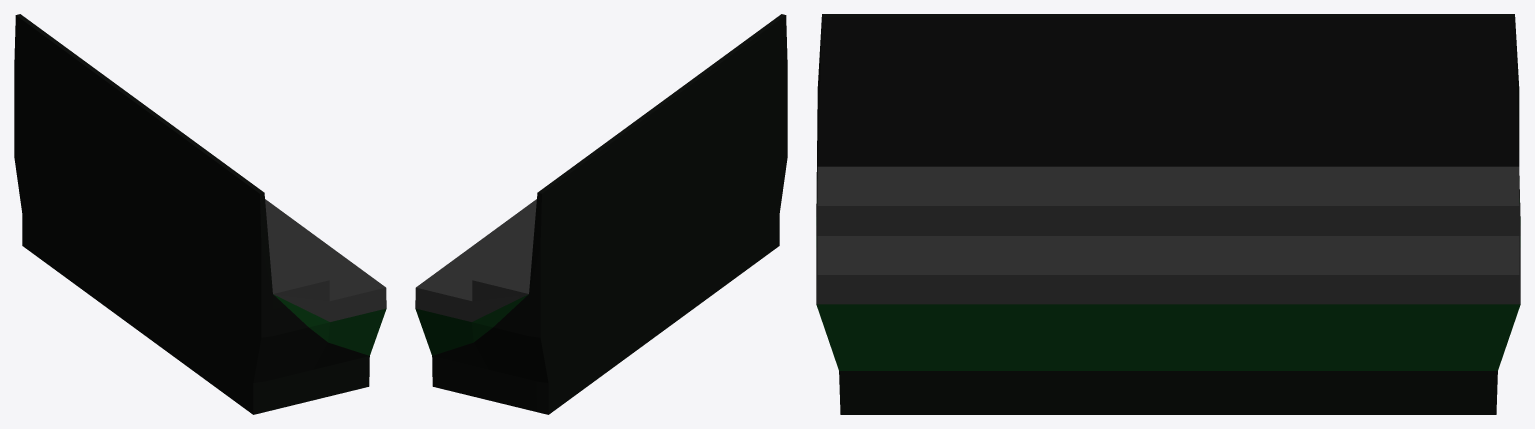
Rendered from estante_lateral.FBX.
The picture shows the model from 3 angles, left to right: view 1: azimuth 30°, elevation 25°; view 2: azimuth 150°, elevation 25°; view 3: azimuth 270°, elevation 25°; orthographic projection. The views are drawn at different scales.
Visible parts, largest first — view 1: Box001; view 2: Box001; view 3: Box001.
Boxes of the visible parts, left/top/right/bottom form: Box001: left=14, top=14, right=386, bottom=414; Box001: left=415, top=14, right=787, bottom=414; Box001: left=816, top=14, right=1520, bottom=414.
Bounding box in the file's own units: 7.94 × 13.75 × 27.37.
